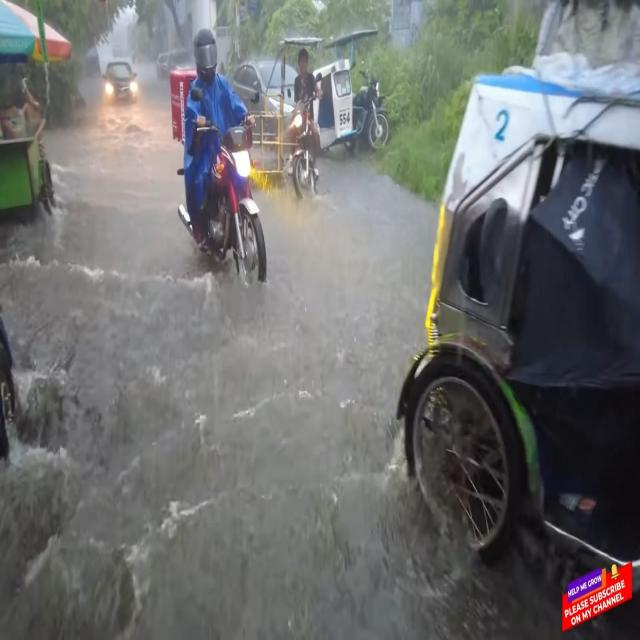full: (191, 20, 223, 95)
